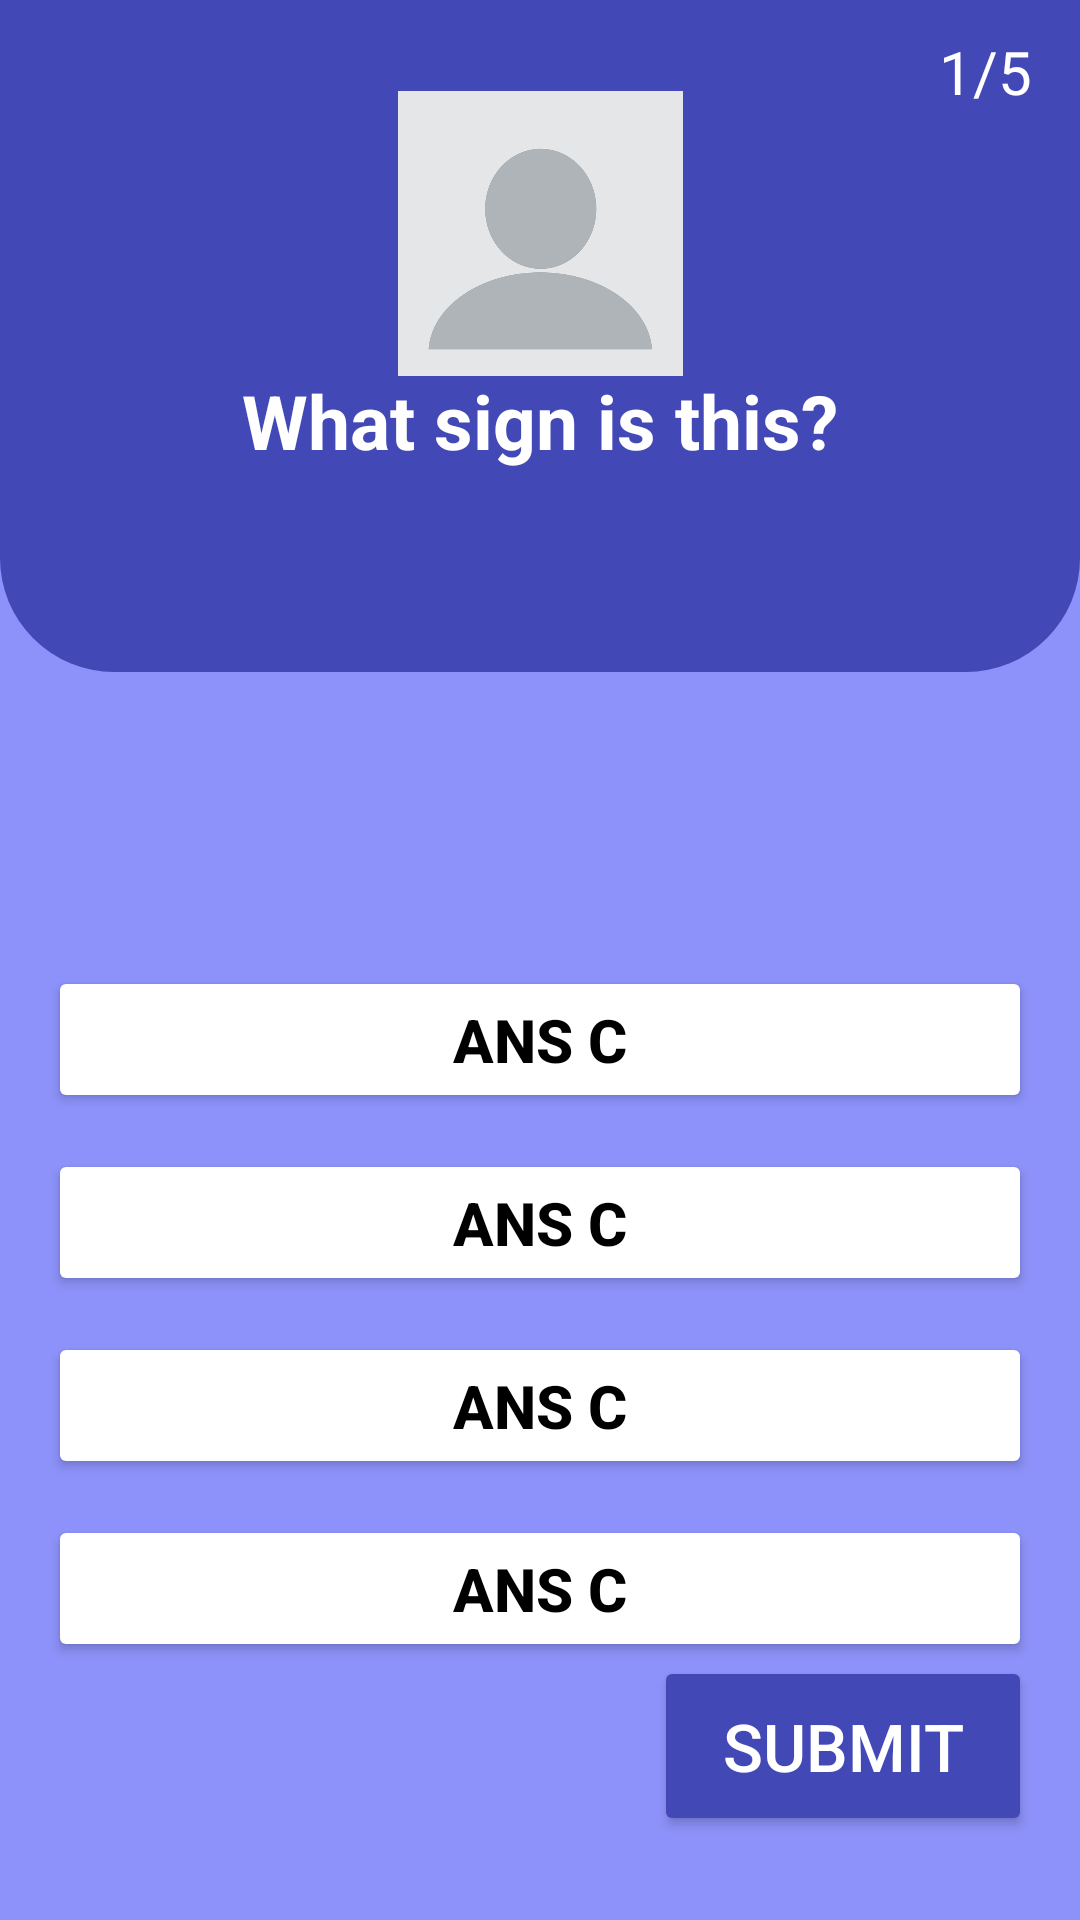

Icon bounding boxes for this 1080px x 1920px phone screenshot, format bbox(x1, y1, x2, y2):
blank profile: bbox(398, 91, 683, 376)
